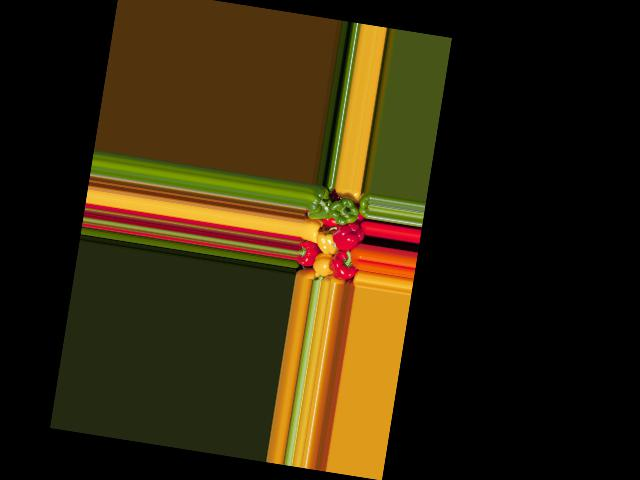bell_pepper: (353, 191, 372, 219)
